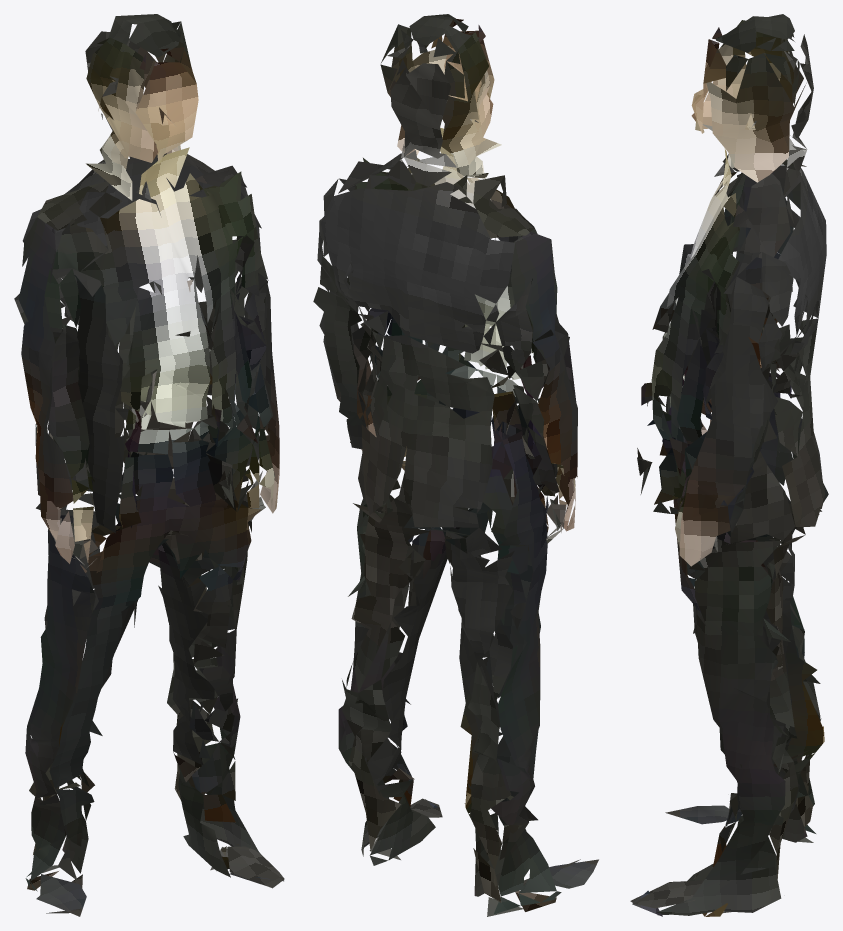
3 renders of one model, left to right at view 1: azimuth 30°, elevation 25°; view 2: azimuth 150°, elevation 25°; view 3: azimuth 270°, elevation 25°, orthographic.
Parts seen in each view (by area): view 1: Object_3.002; view 2: Object_3.002; view 3: Object_3.002.
Part boxes in pixels (x1,y1,x2,y2): Object_3.002: (14, 14, 284, 916); Object_3.002: (313, 14, 598, 916); Object_3.002: (630, 14, 828, 916).
Bounding box in the file's own units: 0.569 × 1.88 × 0.3923.
1 material, 1 textured.
